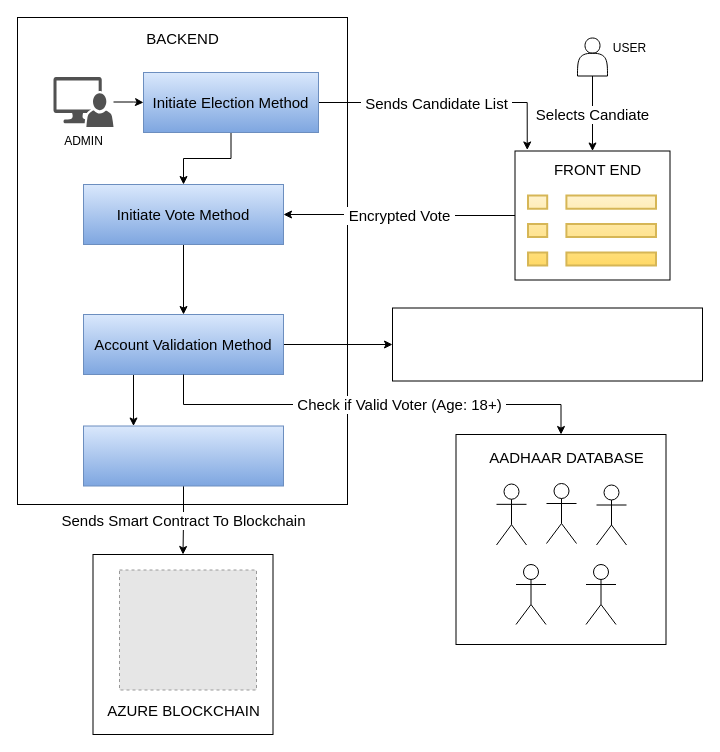
This 720x752 diagram has some shape labels left out. Grey dashed boxes stand in for pictures. The centre of each missing label's shape, as x and y in pixels:
India Stack providing Ethereum account details given Aadhar ID: (547,344)
Vote Cast Method: (183,455)
